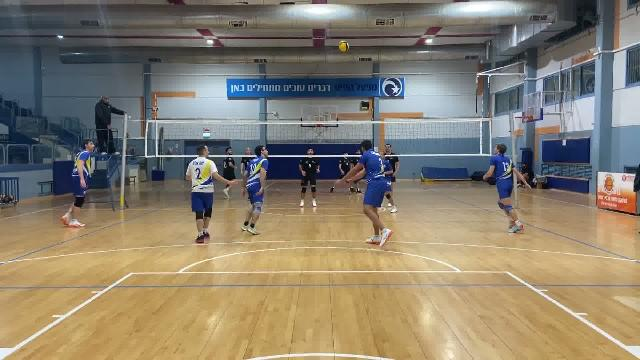ball: (337, 40, 352, 53)
